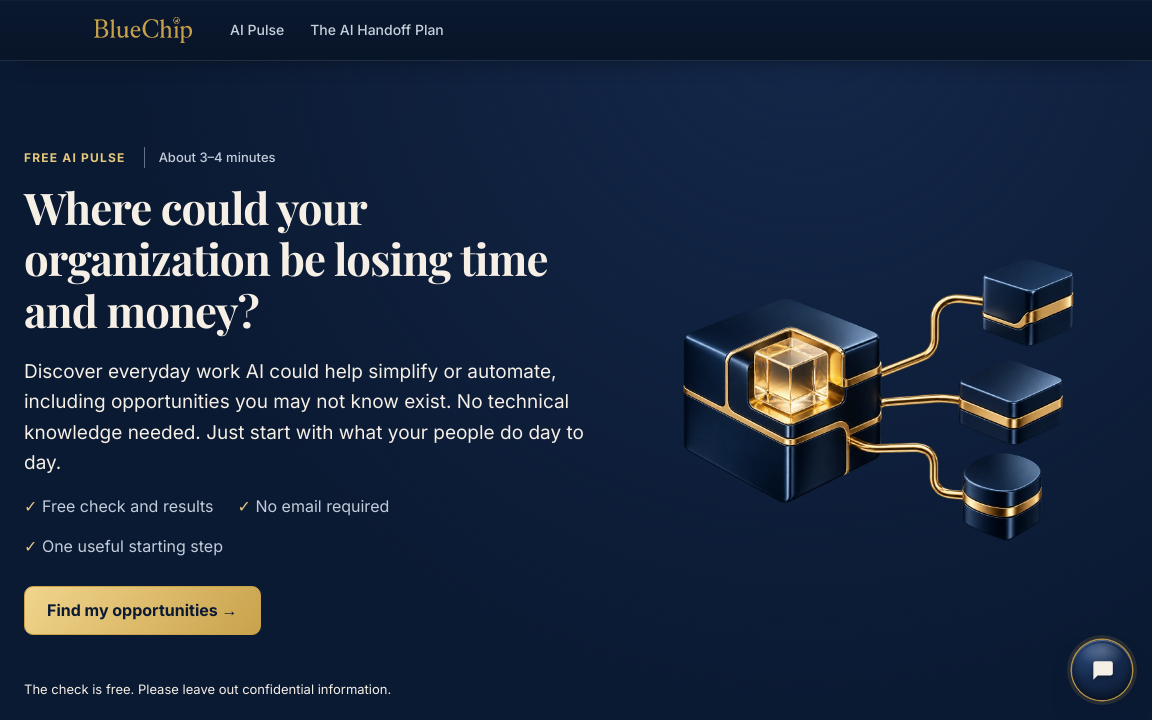
Test: leads with useful starting points, keeps the scale optional and has no print or extra catalogue
Click the button "Find my opportunities →" at (142, 610), box 24,586 -> 260,635
(page scrolled)
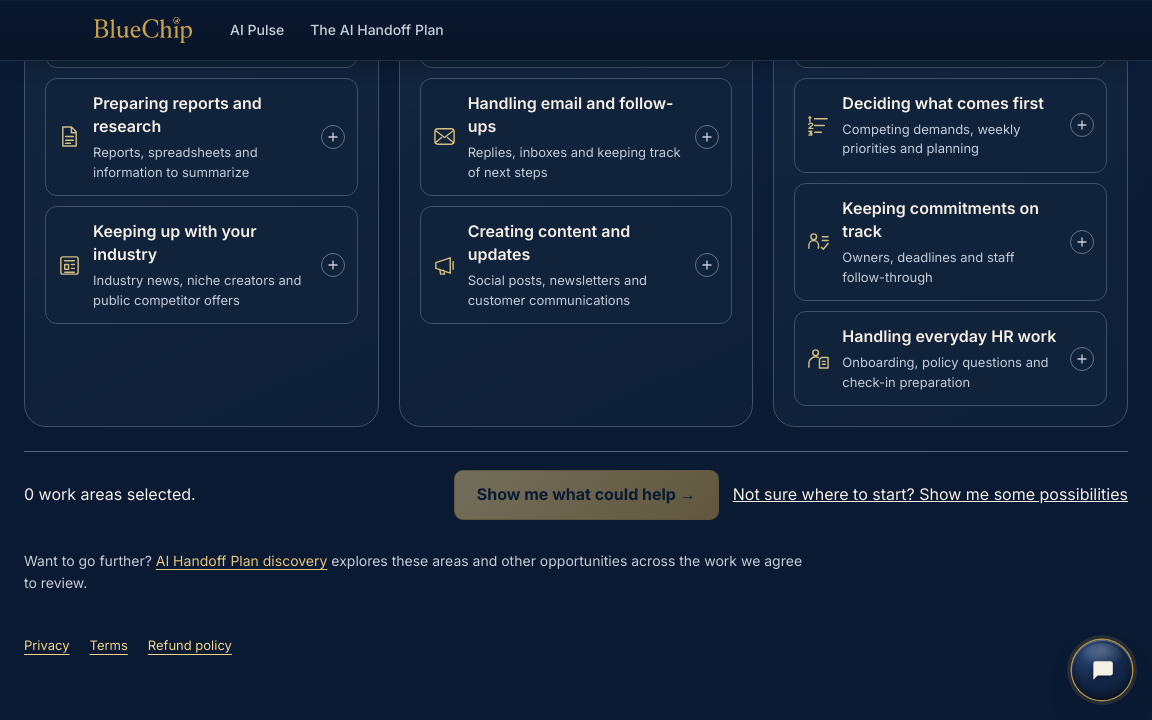
Click the button "Not sure where to start? Show me some possibilities" at (930, 495), box 733,472 -> 1128,518
(page scrolled)
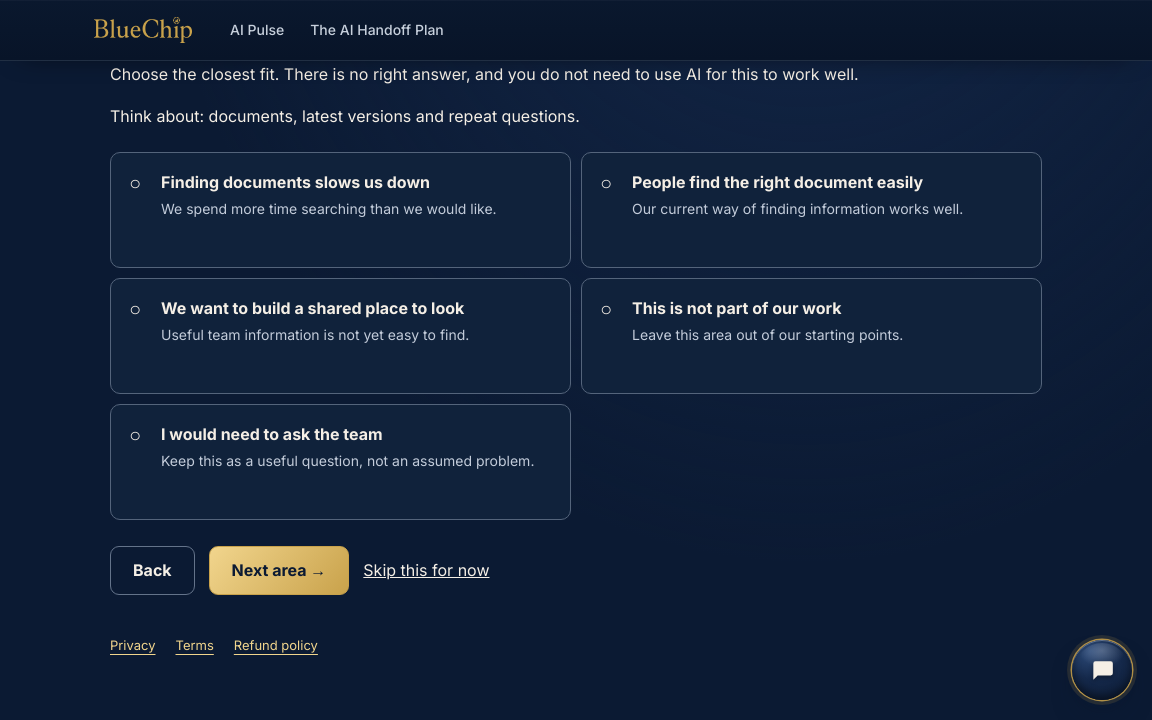
Click the button "Skip this for now" at (426, 570), box 363,548 -> 490,593
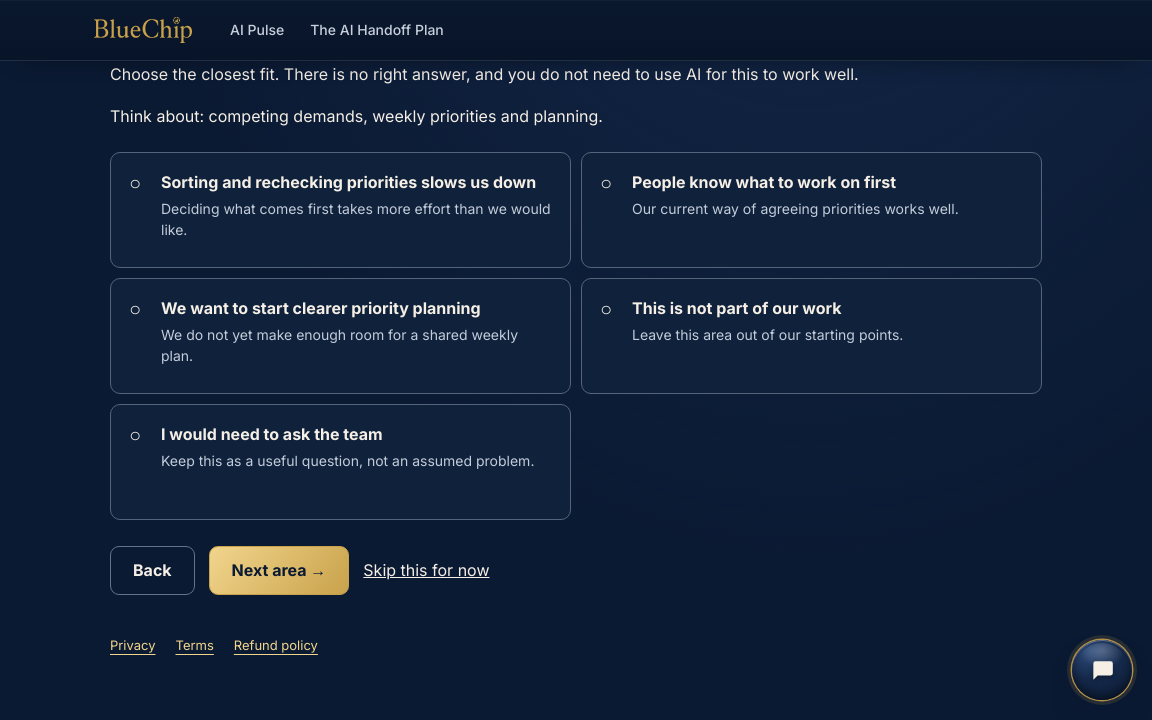
Click the button "Skip this for now" at (426, 570), box 363,548 -> 490,593
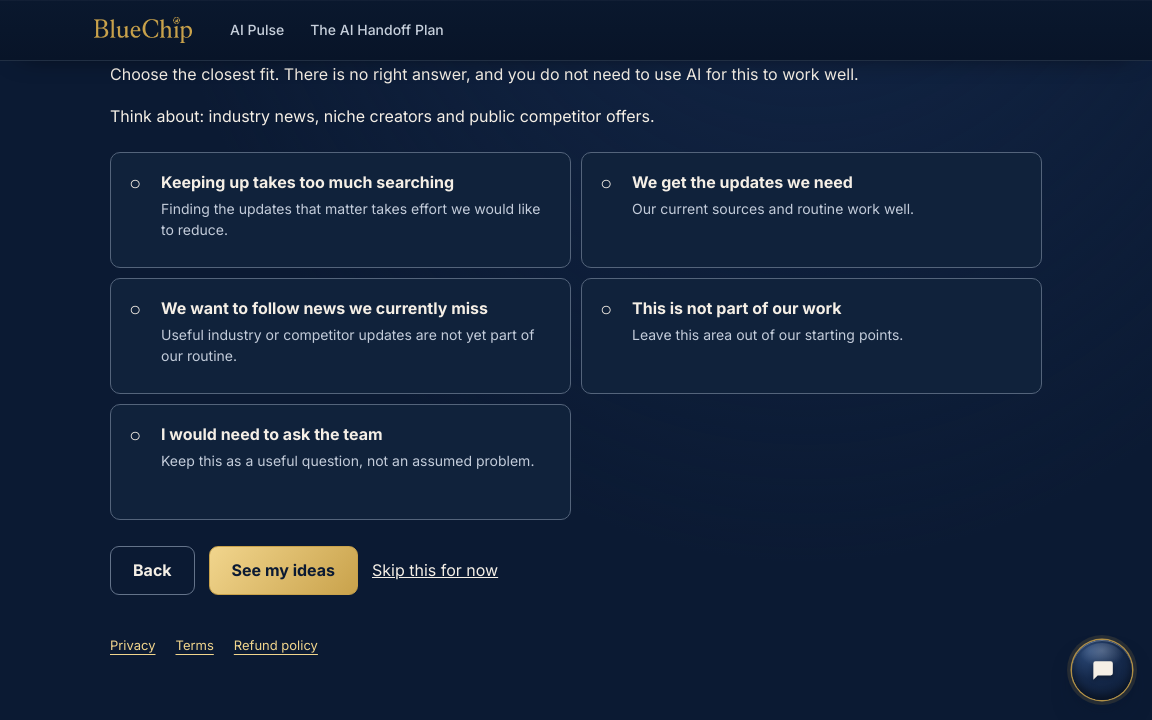
Click the button "Skip this for now" at (435, 570), box 372,548 -> 498,593
(page scrolled)
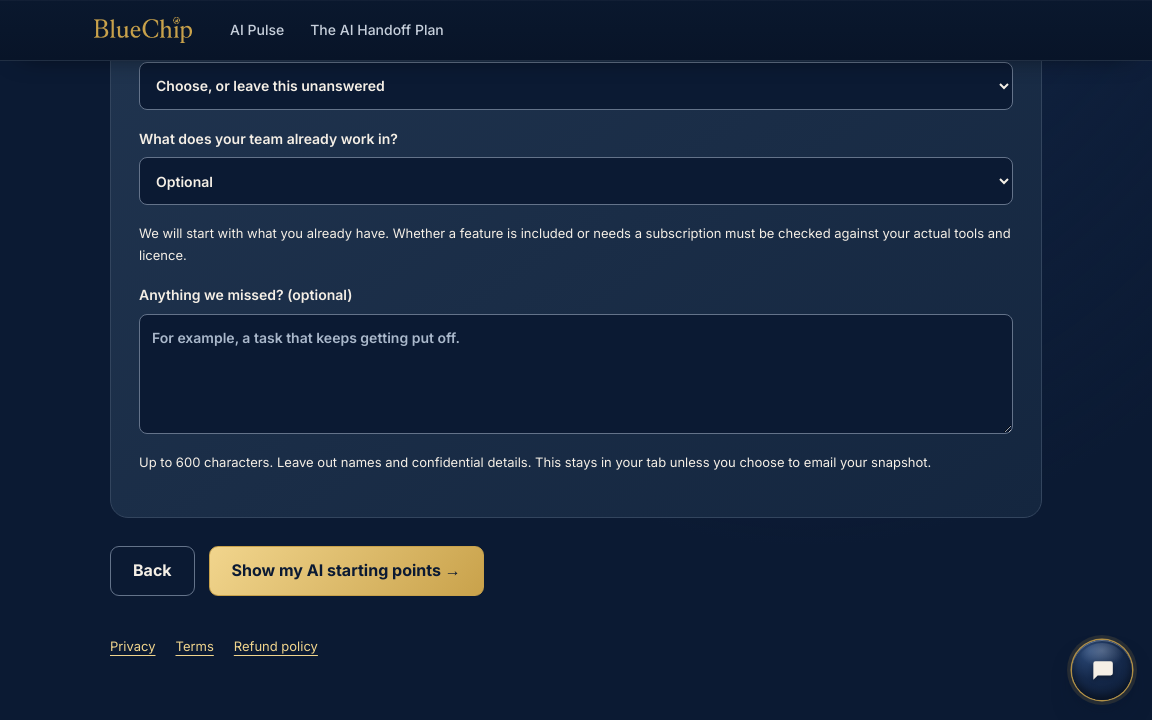
Click the button "Show my AI starting points →" at (346, 571), box 209,546 -> 484,596
(page scrolled)
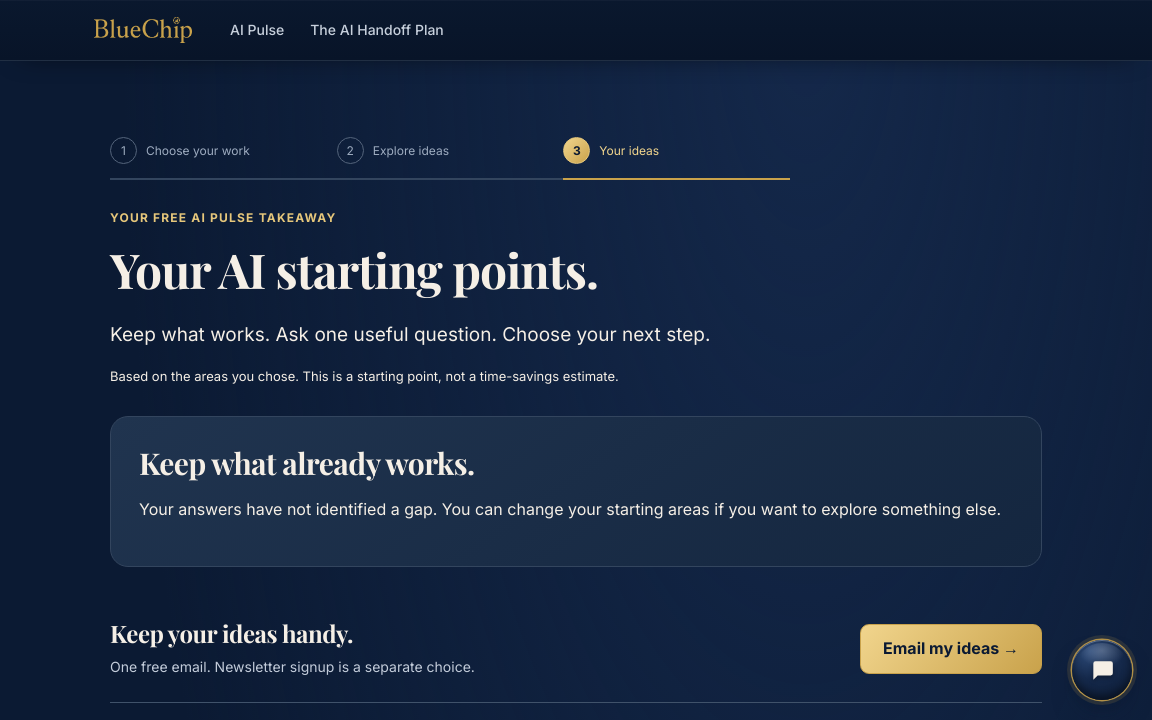
Expected: the heading "Your AI starting points." is shown, 110,237 -> 598,301
Expected: the text "Your answers have not identified a gap" is shown, 139,499 -> 1001,519
